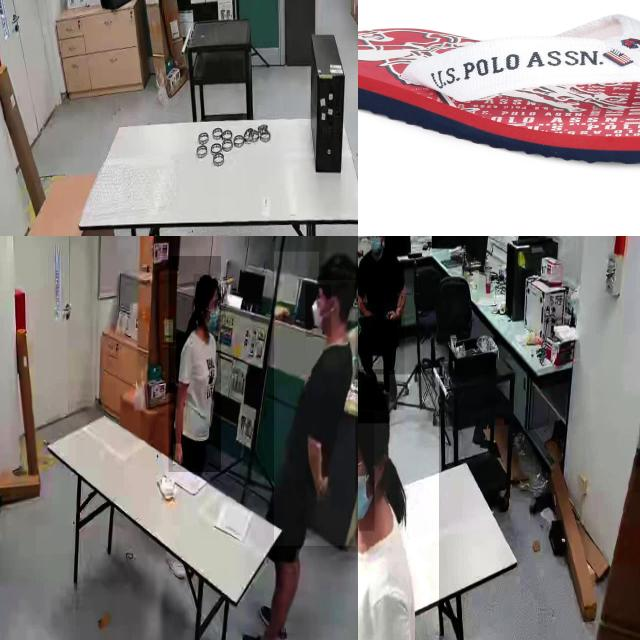Sandals: (358, 12, 640, 169)
face_mask: (358, 411, 374, 531), (306, 284, 332, 337), (194, 293, 226, 331), (365, 236, 384, 251)
hand_noglove: (314, 474, 332, 501), (384, 302, 400, 322), (360, 302, 373, 320), (173, 443, 183, 465)
head_nohelmet: (358, 369, 390, 424), (319, 251, 358, 280), (194, 274, 218, 294)
person: (274, 252, 356, 546), (358, 374, 439, 640), (168, 256, 222, 473), (358, 236, 405, 410)
shoes: (256, 600, 290, 640), (238, 629, 279, 640)
